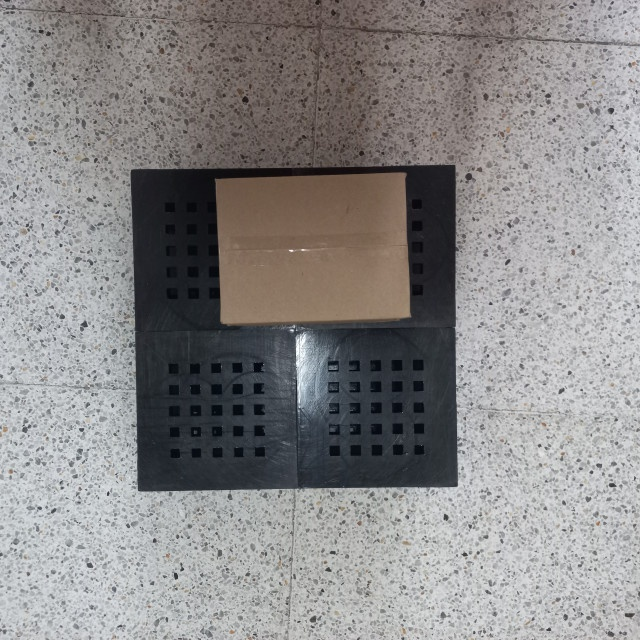box: (215, 171, 412, 329)
pallet: (129, 162, 460, 496)
